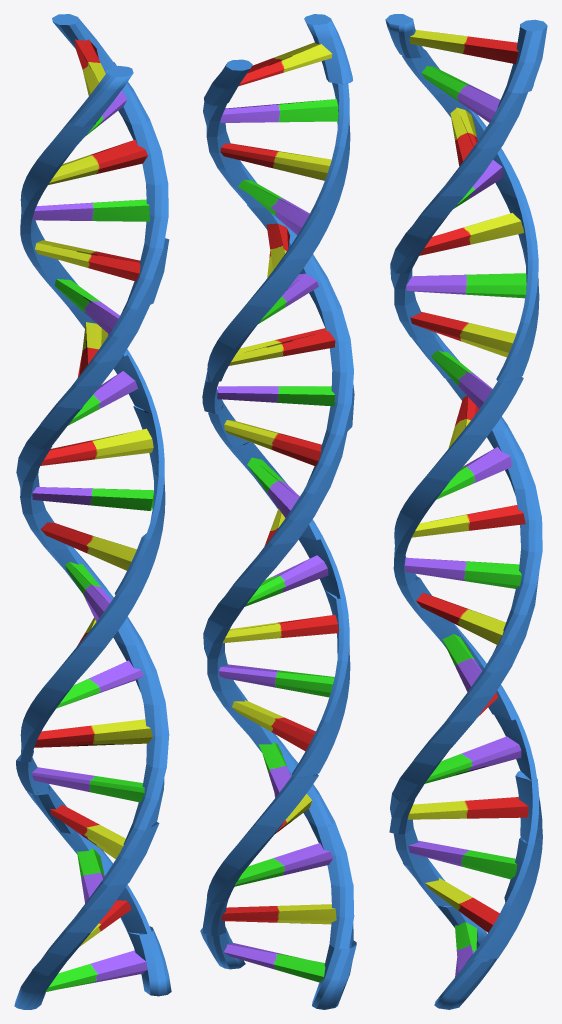
File: dna.fbx
The picture shows the model from 3 angles, left to right: view 1: azimuth 30°, elevation 25°; view 2: azimuth 150°, elevation 25°; view 3: azimuth 270°, elevation 25°; orthographic projection.
Visible parts, largest first — view 1: DNA; view 2: DNA; view 3: DNA.
Part boxes in pixels (x1,y1,x2,y2): DNA: (14,14,171,1009); DNA: (200,14,356,1009); DNA: (385,14,547,1009).
Bounding box in the file's own units: 55.52 × 361 × 55.66.
Materials: 1 (1 with a texture image).
